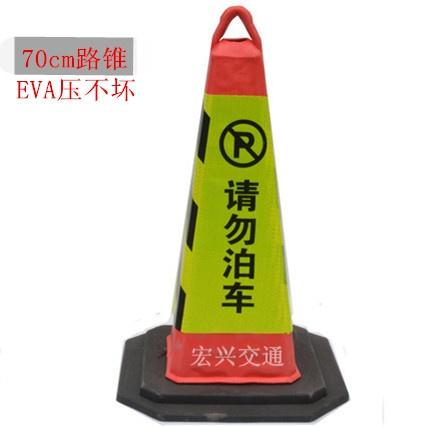cone_barrel: (134, 16, 322, 386)
